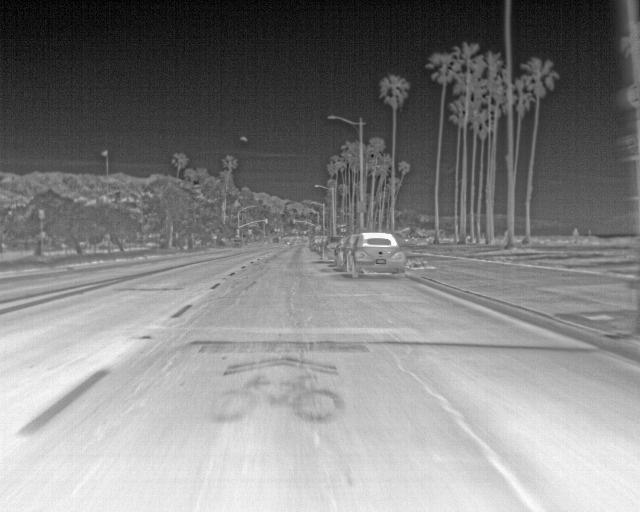bicycle: (346, 230, 407, 277), (332, 234, 348, 268), (323, 234, 343, 260), (308, 234, 328, 253)
